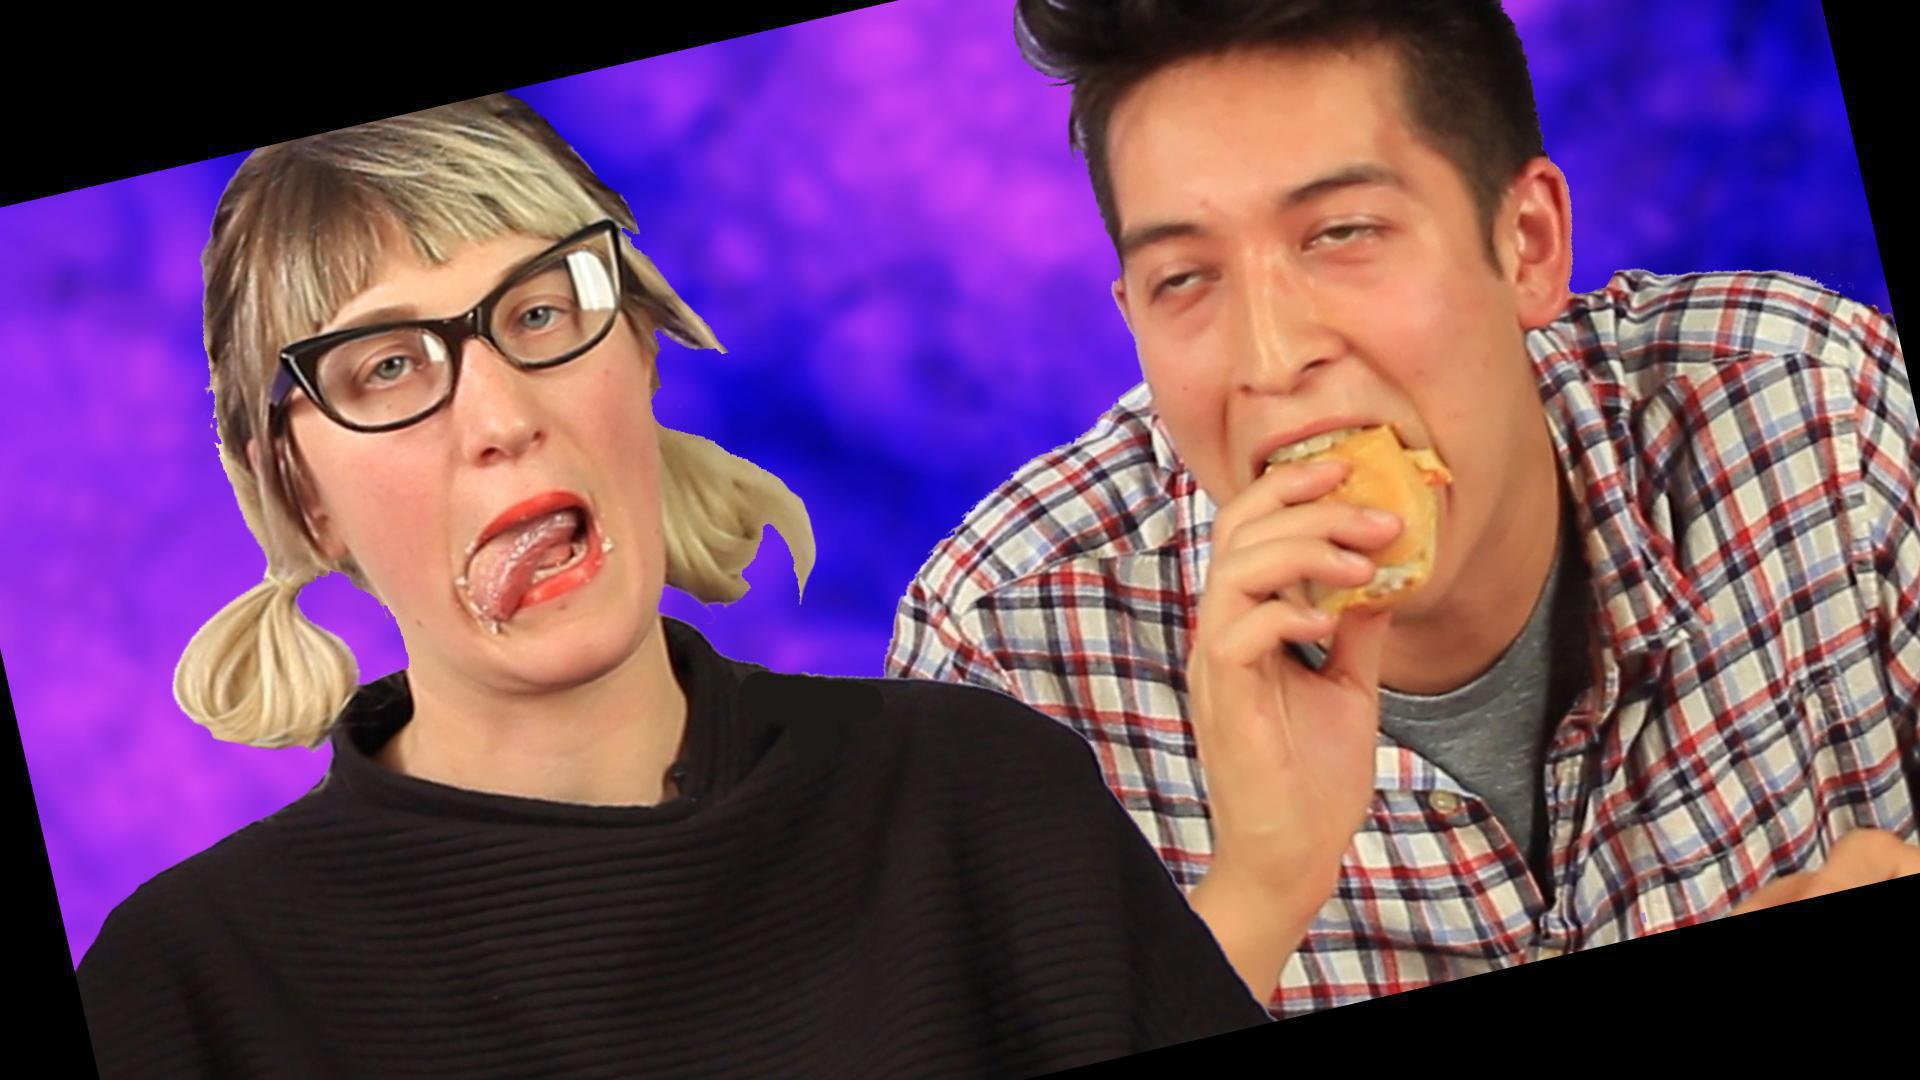Drunk: (1098, 86, 1520, 617), (319, 228, 663, 678)
